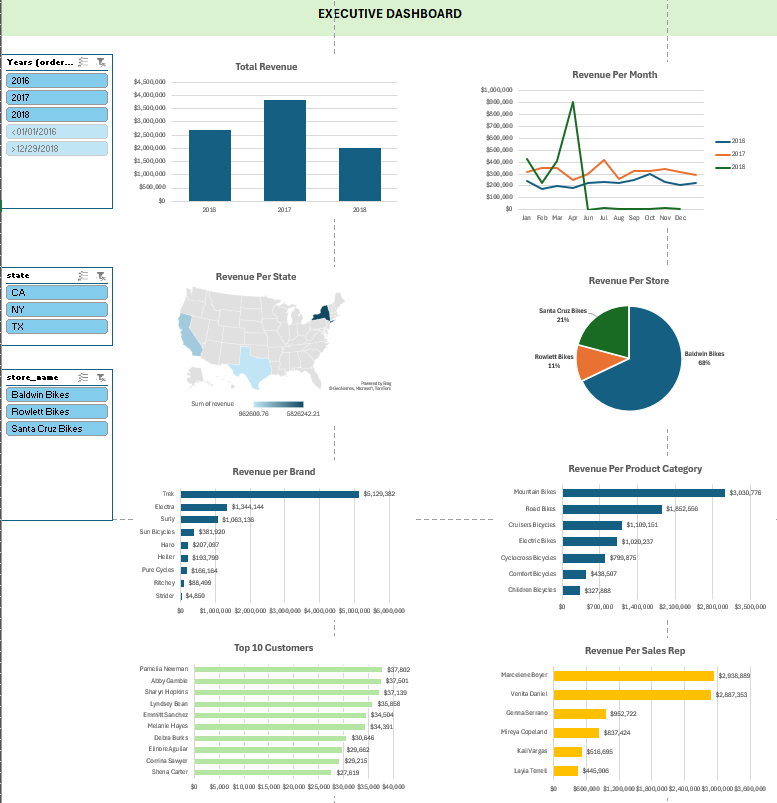

Layout of this report page (visuals, bound fields, positions):
{"tool":"tableau","page":{"name":"Dashboard 1","canvas":[800,2000],"ordinal":0},"visuals":[{"type":"image","param":"C:/Users/patri/Downloads/Gemini_Generated_Image_laai57laai57laai.png","box":[8,8,121,138]},{"type":"text","box":[129,8,514,138]},{"type":"worksheet","title":"Year","mark":"Automatic","box":[643,8,149,138]},{"type":"worksheet","title":"Banner","mark":"Automatic","box":[8,146,784,192]},{"type":"worksheet","title":"Title","mark":"Automatic","box":[8,338,616,63]},{"type":"filter","title":"Revenue Per State","param":"[federated.0n8jx0r19patd81fm2z7r07egaa9].[none:state:nk]","box":[624,338,168,63]},{"type":"worksheet","title":"Revenue Per Year","mark":"Bar","rows":["revenue"],"cols":["order_date"],"box":[8,401,375,307]},{"type":"worksheet","title":"Revenue Per Month","mark":"Automatic","rows":["revenue"],"cols":["order_date"],"box":[383,401,408.9,307]},{"type":"worksheet","title":"Revenue Per State","mark":"Multipolygon","box":[8,708,392,412]},{"type":"worksheet","title":"Revenue Per Store","mark":"Pie","box":[400,708,392,412]},{"type":"worksheet","title":"Revenue Per Brand","mark":"Pie","box":[8,1120,347,487]},{"type":"worksheet","title":"Revenue Per Category","mark":"Automatic","box":[355,1120,437,487]},{"type":"worksheet","title":"Revenue Top Customers","mark":"Automatic","rows":["customers"],"cols":["revenue"],"box":[8,1607,408,381]},{"type":"worksheet","title":"Revenue Per Sales Rep","mark":"Automatic","rows":["sales_rep"],"cols":["revenue"],"box":[416,1607,376,381]}]}

Visuals, with their boxes on the page's 800x2000 design canvas (x1, y1, x2, y2). These are canvas units, not pixel positions in the 777x803 screenshot, which may show the page scaled, cropped or inside an application window:
image: [left=8, top=8, right=129, bottom=146]
text: [left=129, top=8, right=643, bottom=146]
"Year" worksheet: [left=643, top=8, right=792, bottom=146]
"Banner" worksheet: [left=8, top=146, right=792, bottom=338]
"Title" worksheet: [left=8, top=338, right=624, bottom=401]
"Revenue Per State" filter: [left=624, top=338, right=792, bottom=401]
"Revenue Per Year" worksheet (Bar marks): [left=8, top=401, right=383, bottom=708]
"Revenue Per Month" worksheet: [left=383, top=401, right=792, bottom=708]
"Revenue Per State" worksheet (Multipolygon marks): [left=8, top=708, right=400, bottom=1120]
"Revenue Per Store" worksheet (Pie marks): [left=400, top=708, right=792, bottom=1120]
"Revenue Per Brand" worksheet (Pie marks): [left=8, top=1120, right=355, bottom=1607]
"Revenue Per Category" worksheet: [left=355, top=1120, right=792, bottom=1607]
"Revenue Top Customers" worksheet: [left=8, top=1607, right=416, bottom=1988]
"Revenue Per Sales Rep" worksheet: [left=416, top=1607, right=792, bottom=1988]
